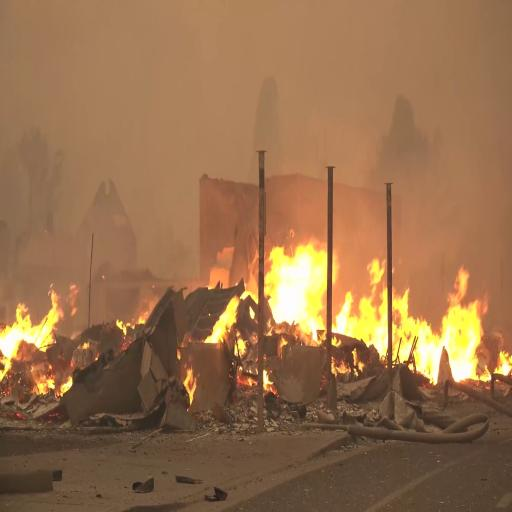fire: (400, 274, 491, 390), (241, 240, 342, 338), (0, 269, 70, 371), (346, 260, 403, 350)
